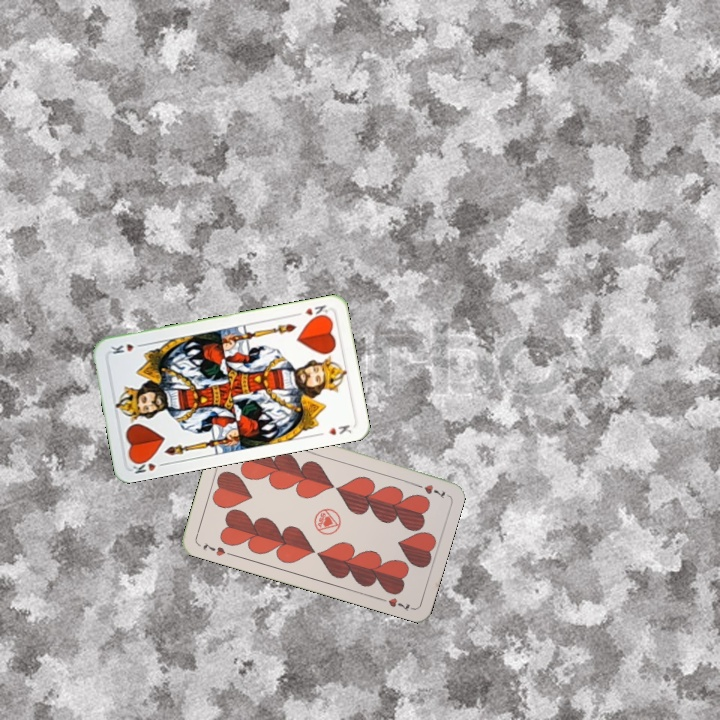H7: (410, 479, 448, 500), (199, 539, 235, 559)
HK: (128, 454, 169, 476), (301, 301, 330, 322)
